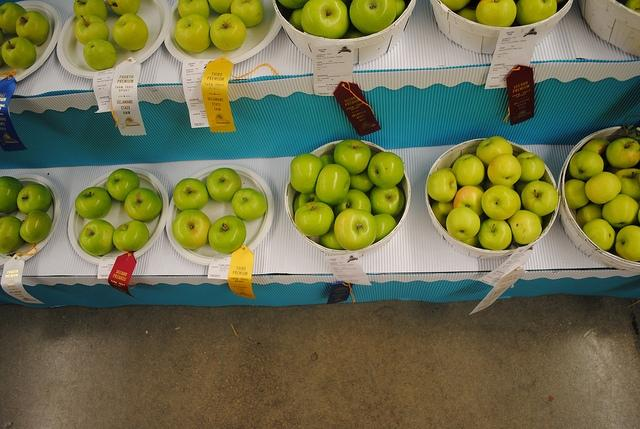apple: (301, 0, 350, 39), (334, 208, 377, 251), (172, 209, 212, 250), (350, 0, 398, 34), (521, 180, 559, 218), (316, 164, 350, 206), (174, 14, 211, 52), (208, 216, 246, 253), (294, 202, 334, 237), (290, 153, 324, 194), (334, 138, 371, 175), (602, 194, 640, 230), (112, 14, 150, 50), (124, 187, 162, 223), (210, 14, 247, 50), (80, 219, 116, 256), (368, 152, 404, 188), (481, 185, 518, 220), (507, 209, 543, 244), (206, 168, 242, 202), (173, 178, 209, 212), (75, 187, 112, 220), (112, 220, 150, 252), (231, 188, 266, 222), (368, 185, 404, 218), (585, 172, 622, 204), (476, 136, 513, 168), (446, 206, 480, 240), (106, 168, 140, 202), (16, 11, 50, 45), (487, 154, 522, 187), (17, 183, 53, 215), (334, 188, 372, 218), (83, 39, 118, 71), (1, 37, 36, 69), (74, 15, 110, 46), (452, 154, 485, 187), (582, 218, 615, 251), (478, 218, 512, 250), (606, 138, 640, 170), (568, 150, 604, 180), (476, 0, 516, 27), (20, 210, 52, 243), (427, 169, 458, 203), (516, 1, 557, 26), (454, 184, 484, 218), (615, 224, 640, 262), (580, 138, 612, 167), (230, 1, 264, 28), (0, 2, 28, 34), (0, 216, 24, 253), (0, 176, 24, 213), (516, 152, 545, 182), (615, 168, 640, 202), (564, 179, 590, 209), (576, 203, 604, 230), (74, 0, 108, 22), (373, 213, 396, 243), (348, 167, 374, 193), (294, 191, 324, 213), (178, 0, 210, 20), (319, 226, 345, 250), (432, 200, 454, 228), (339, 19, 369, 39), (107, 0, 140, 15), (514, 180, 539, 196), (289, 7, 304, 33), (392, 0, 408, 24), (456, 5, 478, 22), (208, 0, 234, 14), (440, 0, 470, 11), (278, 0, 309, 9), (320, 154, 337, 168), (626, 0, 640, 13)
